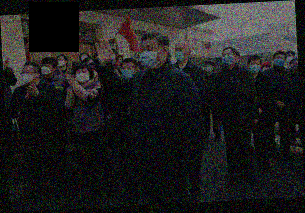with_mask: (140, 43, 165, 70), (174, 45, 188, 63), (75, 68, 90, 83), (120, 64, 135, 79), (21, 69, 35, 85), (221, 51, 235, 67), (275, 54, 286, 68), (41, 63, 53, 75), (250, 61, 261, 74), (204, 64, 214, 74), (57, 57, 66, 67), (286, 53, 293, 64), (81, 54, 90, 62)
